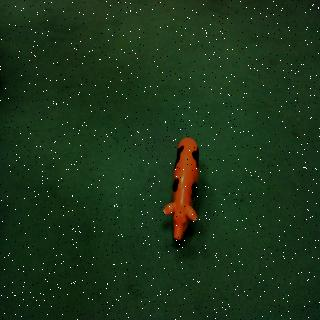pig: (161, 135, 203, 245)
